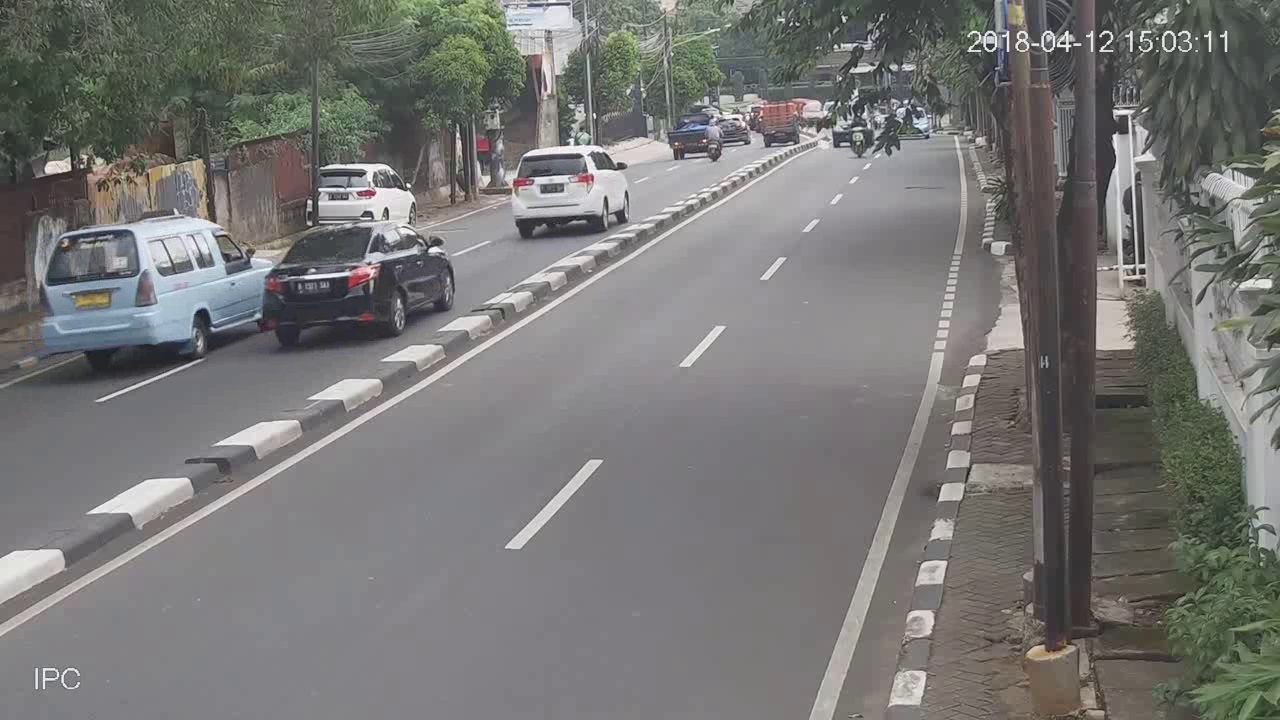car: (35, 210, 257, 363), (256, 219, 461, 345), (505, 143, 630, 238), (299, 160, 421, 228)
